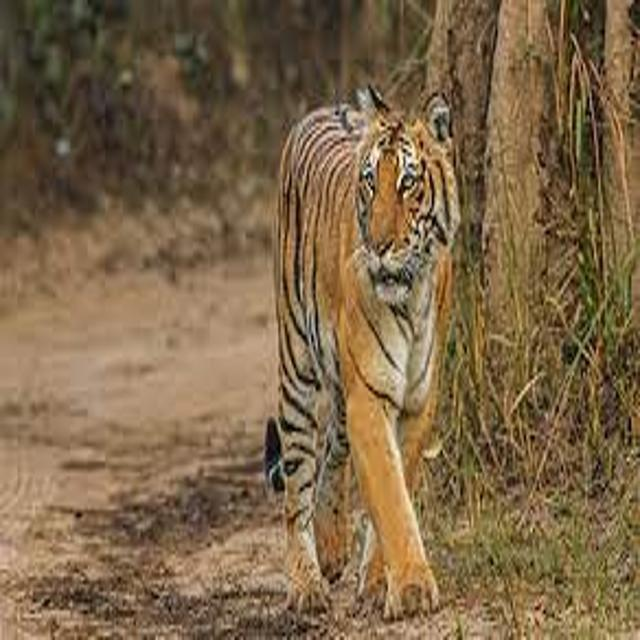Tiger: (209, 51, 512, 640)
